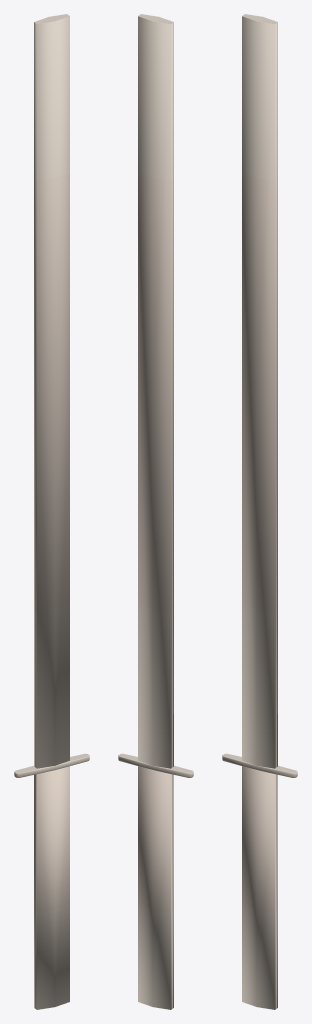
File: Sword.fbx
3 renders of one model, left to right at view 1: azimuth 30°, elevation 25°; view 2: azimuth 150°, elevation 25°; view 3: azimuth 330°, elevation 25°, orthographic.
Visible parts, largest first — view 1: Saya, Sword; view 2: Saya, Sword; view 3: Saya, Sword.
Boxes of the visible parts, x1,y1,x2,y2 form: Saya: (34,14,69,768); Sword: (14,753,89,1009); Saya: (138,14,173,768); Sword: (118,753,193,1009); Saya: (242,14,277,768); Sword: (222,753,297,1009).
Size of the model in its own units: 5.57 by 70.85 by 0.8107.
